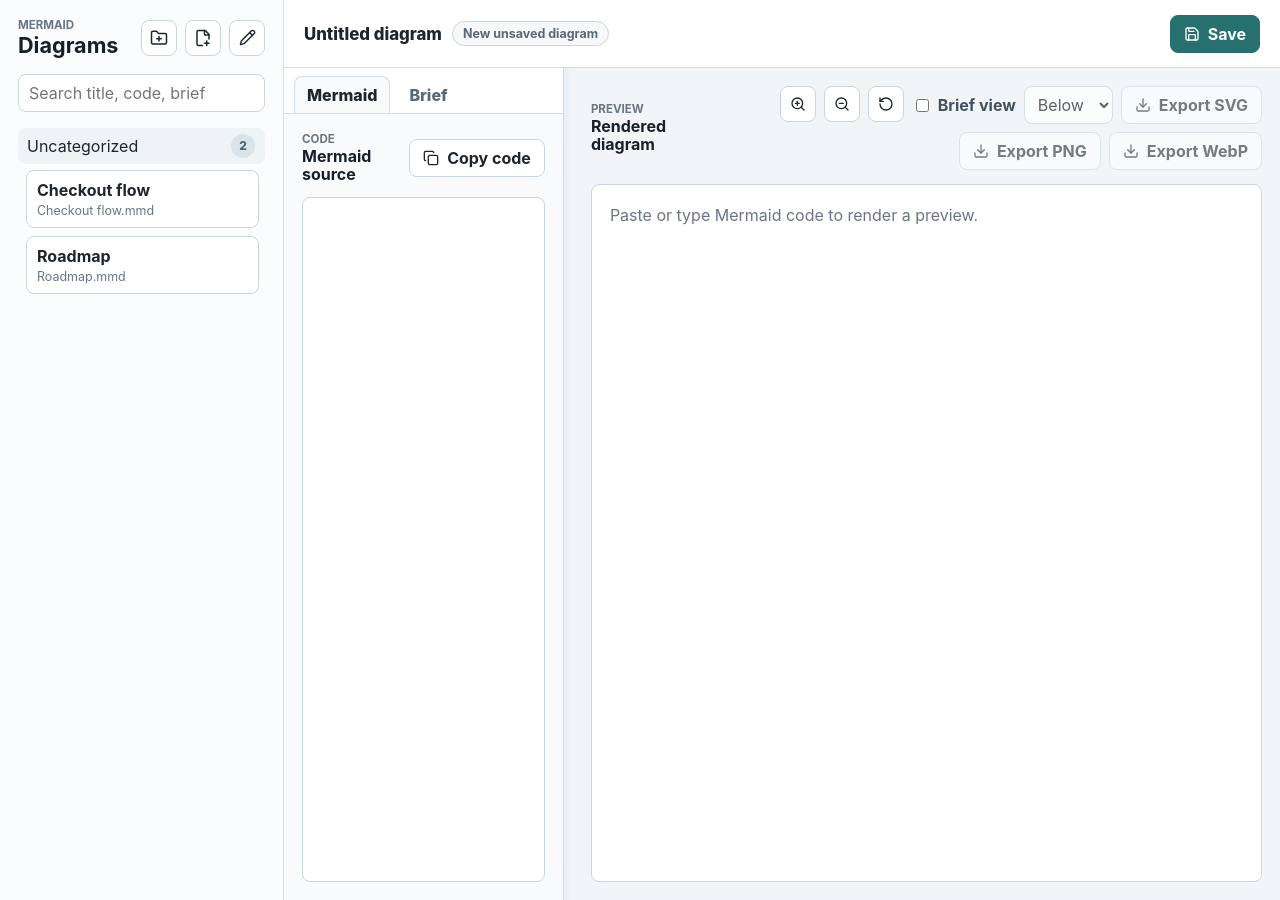
Test: App › hides delete controls until sidebar edit mode is enabled
Expected: the button "Checkout flow Checkout flow.mmd" is shown, [26,170,259,228]
Click the button named "show delete controls" at (247, 38), box [229,20,265,56]
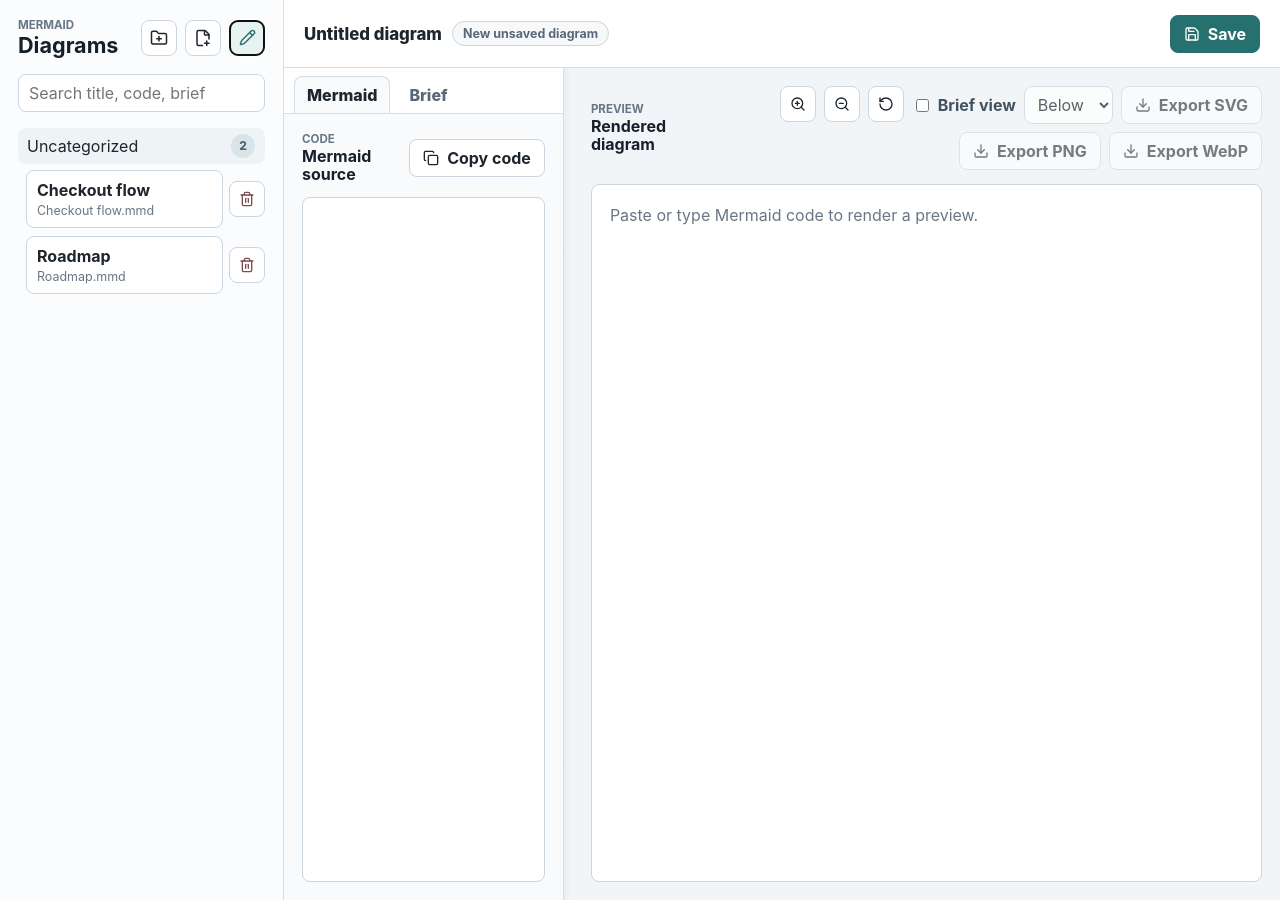
Expected: the button named "delete Checkout flow" is shown, [229,181,265,217]
